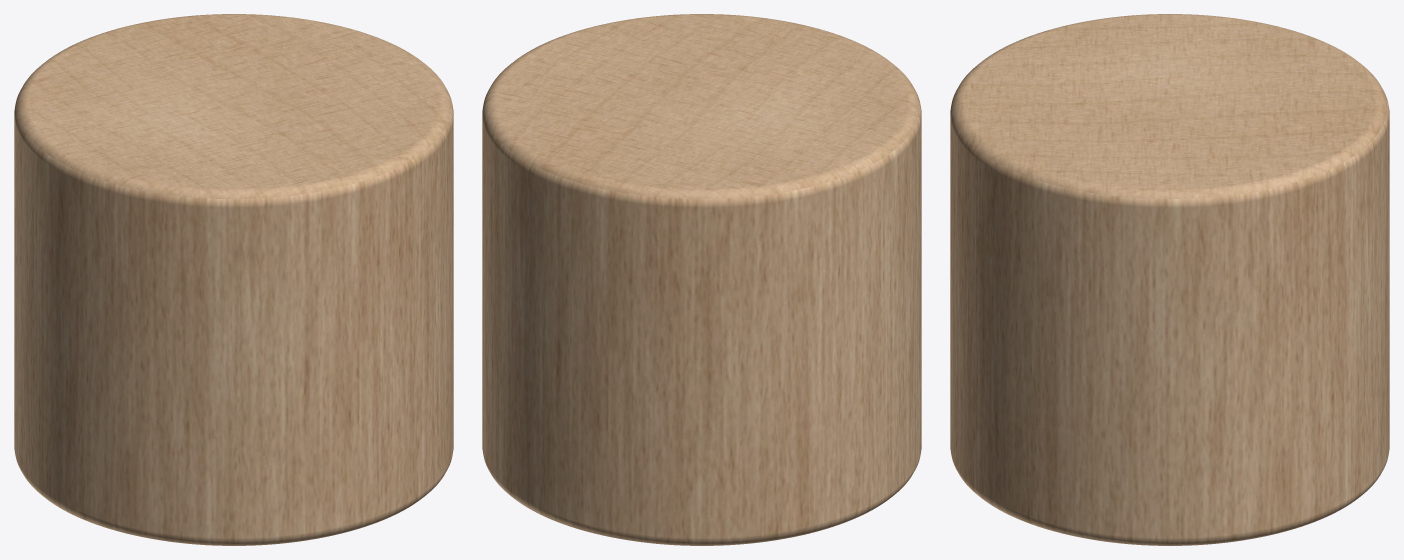
The model's file is pawn-white.glb.
3 renders of one model, left to right at view 1: azimuth 30°, elevation 25°; view 2: azimuth 150°, elevation 25°; view 3: azimuth 270°, elevation 25°, orthographic.
Visible parts, largest first — view 1: Cylindra_Pěšec_bílý; view 2: Cylindra_Pěšec_bílý; view 3: Cylindra_Pěšec_bílý.
Part boxes in pixels (x1=…): Cylindra_Pěšec_bílý: x1=14, y1=14, x2=453, y2=545; Cylindra_Pěšec_bílý: x1=482, y1=14, x2=921, y2=545; Cylindra_Pěšec_bílý: x1=950, y1=14, x2=1389, y2=545.
Bounding box in the file's own units: 0.4928 × 0.44 × 0.4928.
Materials: 2 (2 with a texture image).
